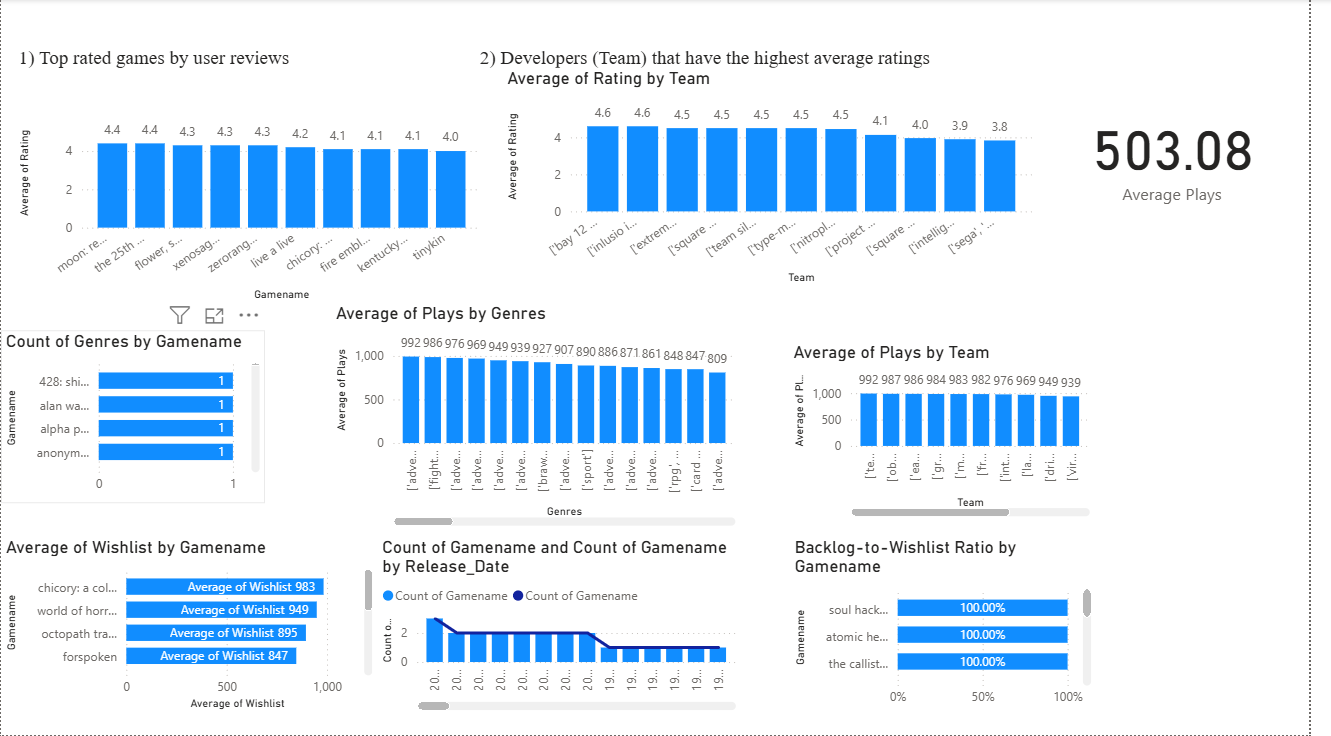

This screenshot's page, from the dashboard's own definition file:
{"tool":"powerbi","page":{"name":"games","canvas":[1280,720],"ordinal":0},"visuals":[{"type":"clusteredColumnChart","fields":{"Y":["Avg(games.Rating)"],"Category":["games.Gamename"]},"box":[12.1,83.4,462.6,216.5],"z":0},{"type":"textbox","box":[11.7,41.7,473.3,66.7],"z":1000},{"type":"textbox","box":[464,41.7,486.8,33.6],"z":2000},{"type":"clusteredColumnChart","fields":{"Category":["games.Team"],"Y":["Avg(games.Rating)"]},"box":[490.9,67.2,523.1,216.5],"z":3000},{"type":"card","fields":{"Values":["games.Average Plays"]},"box":[1038.2,67.2,215.2,169.4],"z":4000},{"type":"clusteredColumnChart","fields":{"Category":["games.Genres"],"Y":["Avg(games.Plays)"]},"box":[322.8,297.2,400.8,223.2],"z":5000},{"type":"clusteredColumnChart","fields":{"Category":["games.Team"],"Y":["Avg(games.Plays)"]},"box":[770.6,334.9,299.9,176.2],"z":6000},{"type":"clusteredBarChart","fields":{"Category":["games.Gamename"],"Y":["CountNonNull(games.Genres)"]},"box":[0,324.1,258.2,168.1],"z":7000},{"type":"clusteredBarChart","fields":{"Y":["Avg(games.Wishlist)"],"Category":["games.Gamename"]},"box":[0,525.8,368.5,174.8],"z":8000},{"type":"lineStackedColumnComboChart","fields":{"Category":["games.Release_Date"],"Y":["CountNonNull(games.Gamename)"],"Y2":["CountNonNull(games.Gamename)"]},"box":[368,526,356,175],"z":9000},{"type":"hundredPercentStackedBarChart","fields":{"Y":["games.Backlog-to-Wishlist Ratio"],"Category":["games.Gamename"]},"box":[771,526,300,175],"z":10000}]}

Visuals, with their boxes in screenshot pixels (x1, y1, x2, y2), scaled from the page's 1280x720 canvas onto the 1331x736 screenshot:
clusteredColumnChart - Avg(games.Rating) x games.Gamename: <region>13, 85, 494, 307</region>
textbox: <region>12, 43, 504, 111</region>
textbox: <region>482, 43, 989, 77</region>
clusteredColumnChart - games.Team x Avg(games.Rating): <region>510, 69, 1054, 290</region>
card - games.Average Plays: <region>1080, 69, 1303, 242</region>
clusteredColumnChart - games.Genres x Avg(games.Plays): <region>336, 304, 752, 532</region>
clusteredColumnChart - games.Team x Avg(games.Plays): <region>801, 342, 1113, 522</region>
clusteredBarChart - games.Gamename x CountNonNull(games.Genres): <region>0, 331, 268, 503</region>
clusteredBarChart - Avg(games.Wishlist) x games.Gamename: <region>0, 537, 383, 716</region>
lineStackedColumnComboChart - games.Release_Date x CountNonNull(games.Gamename): <region>383, 538, 753, 717</region>
hundredPercentStackedBarChart - games.Backlog-to-Wishlist Ratio x games.Gamename: <region>802, 538, 1114, 717</region>
